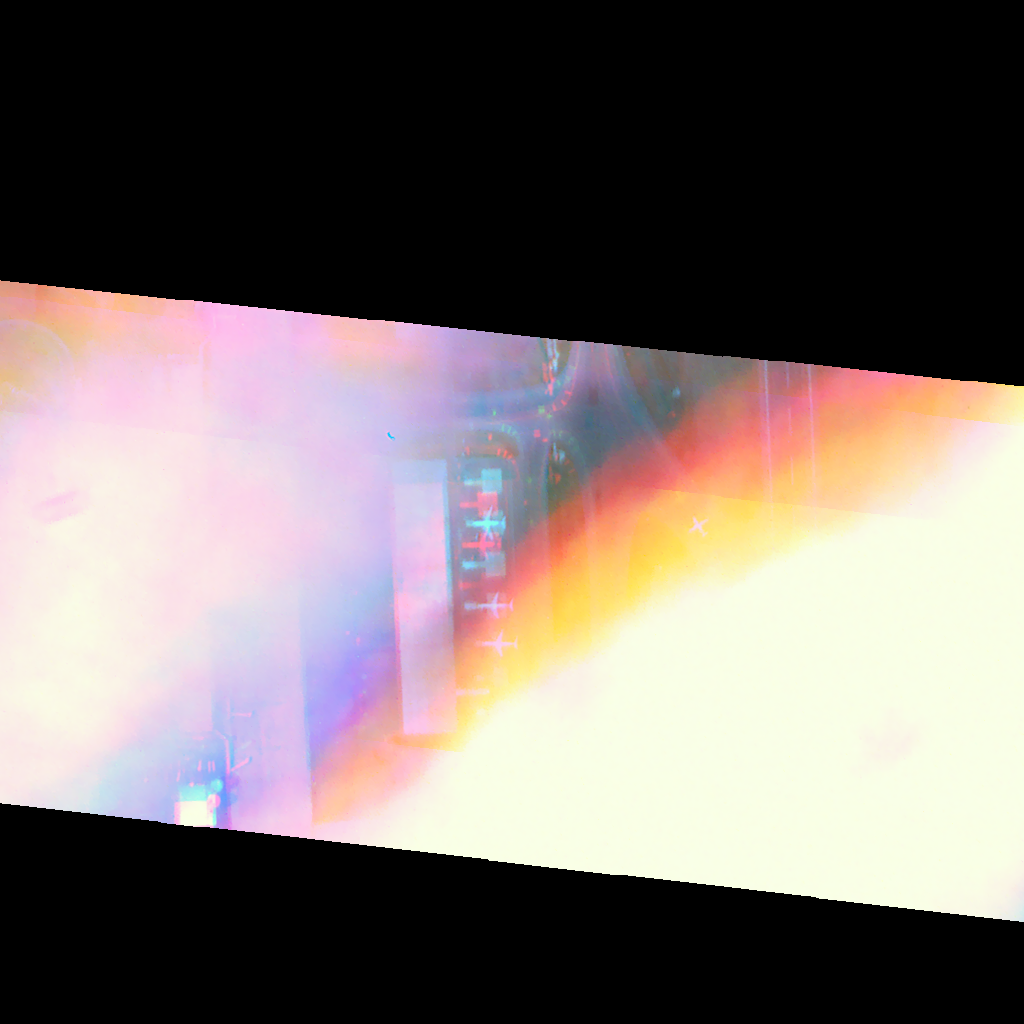plane: (464, 586, 518, 619), (478, 626, 525, 662), (464, 511, 509, 535), (462, 533, 504, 557), (688, 510, 714, 541)
